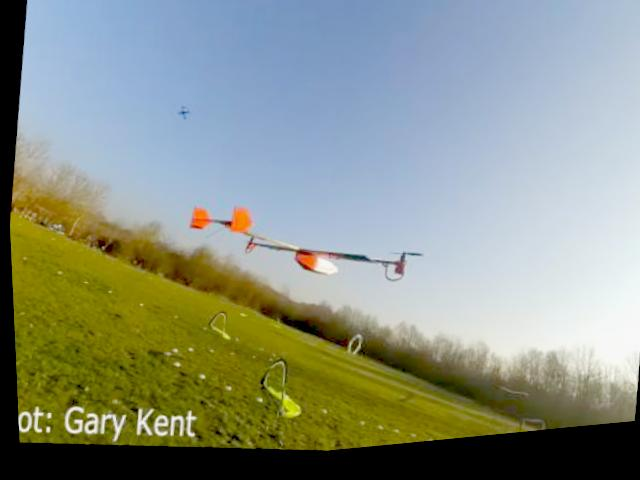uav: (168, 172, 435, 336)
